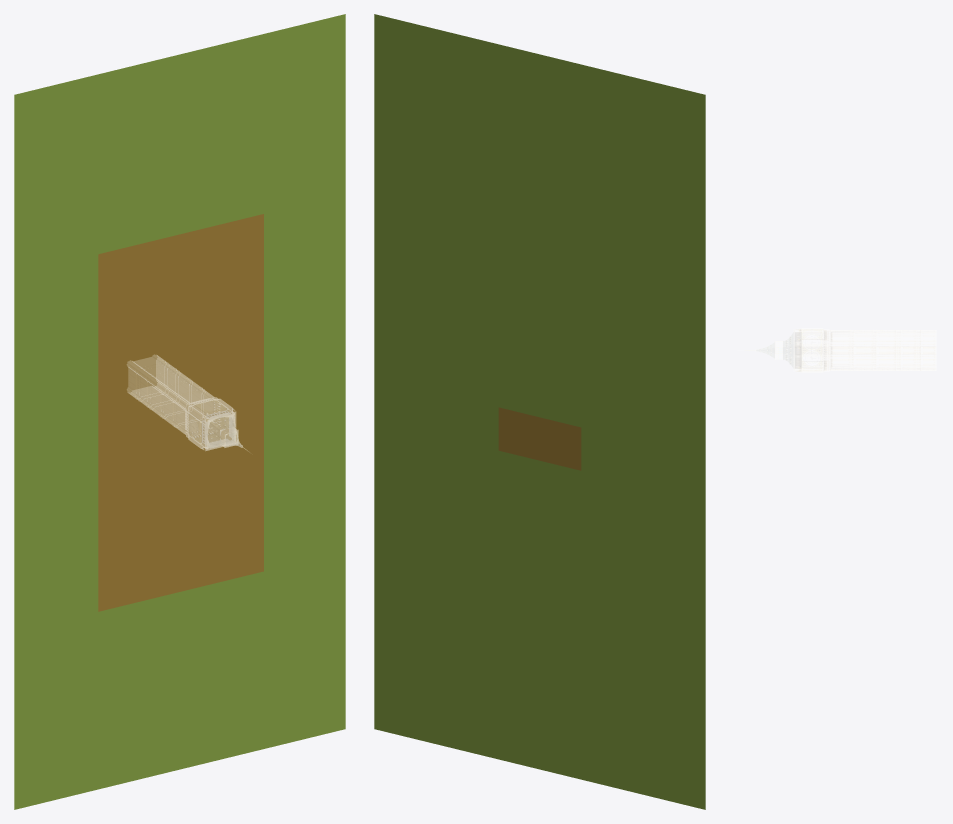
Rendered from modelo.glb.
3 views of the same model, side by side, from view 1: azimuth 30°, elevation 25°; view 2: azimuth 150°, elevation 25°; view 3: azimuth 270°, elevation 25° (orthographic). The views are drawn at different scales.
Visible parts, largest first — view 1: Plano.001, Plano, 10059_big_ben_v2_max2011_it1; view 2: Plano.001, Plano; view 3: 10059_big_ben_v2_max2011_it1.
Boxes of the visible parts, <box> form: Plano.001: <box>14,14,345,809</box>; Plano: <box>98,214,263,611</box>; 10059_big_ben_v2_max2011_it1: <box>127,355,247,450</box>; Plano.001: <box>374,14,705,809</box>; Plano: <box>498,407,581,470</box>; 10059_big_ben_v2_max2011_it1: <box>749,328,936,372</box>.
Size of the model in its own units: 16 by 33 by 9.44.
3 materials, 1 textured.
